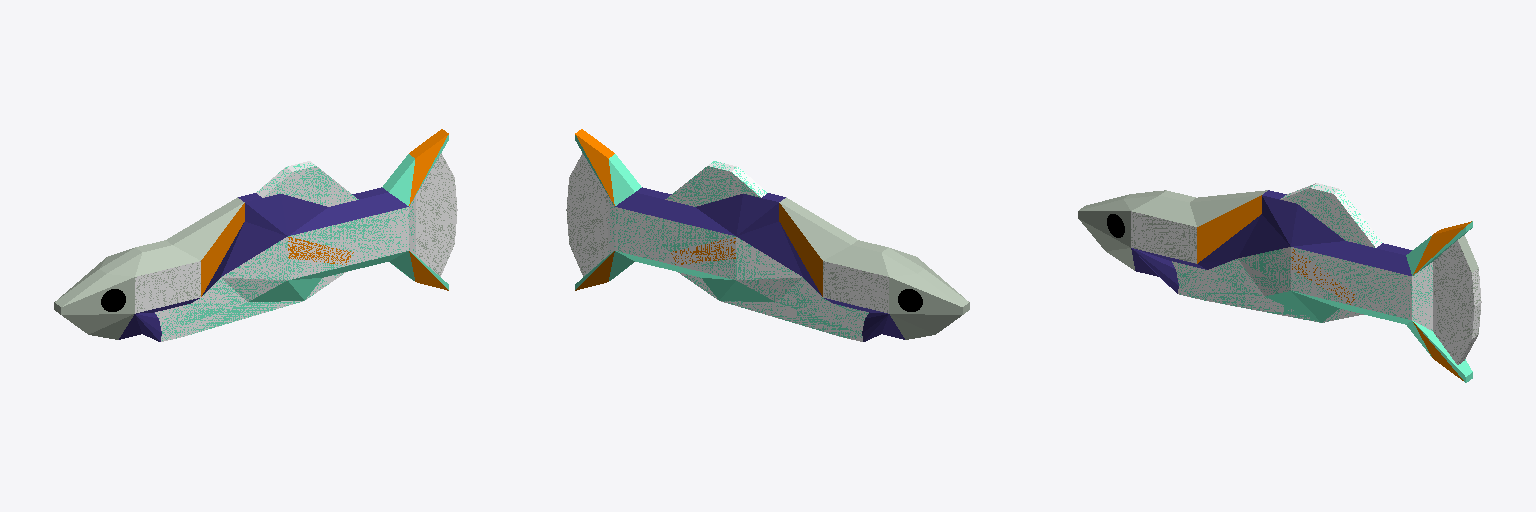
File: endlerslivebearer.obj
3 renders of one model, left to right at view 1: azimuth 30°, elevation 25°; view 2: azimuth 150°, elevation 25°; view 3: azimuth 330°, elevation 25°, orthographic.
Visible parts, largest first — view 1: SketchUp, SketchUp_ID34; view 2: SketchUp, SketchUp_ID34; view 3: SketchUp, SketchUp_ID34.
Part boxes in pixels (x1,y1,x2,y2): SketchUp: (54,129,457,341); SketchUp_ID34: (119,187,408,341); SketchUp: (566,129,969,341); SketchUp_ID34: (615,187,904,341); SketchUp: (1078,183,1481,382); SketchUp_ID34: (1131,190,1411,293).
Size of the model in its own units: 6.59 by 2.5 by 0.8.